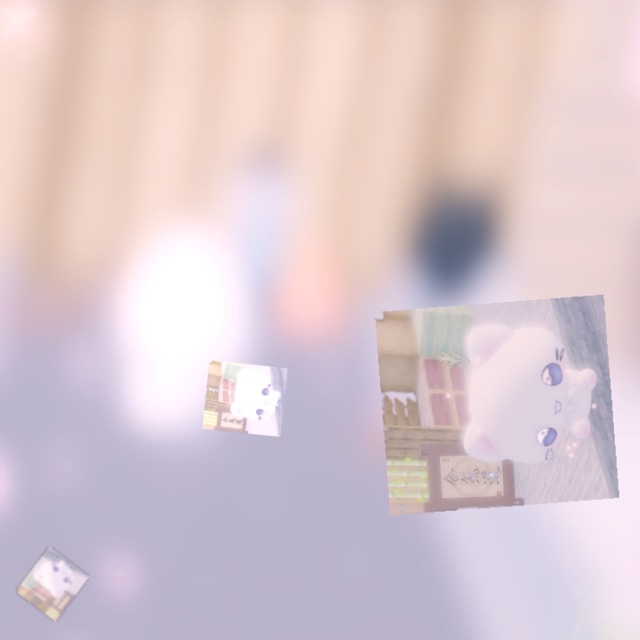urso_branco: (374, 294, 620, 516), (202, 360, 288, 437), (15, 546, 90, 622)
